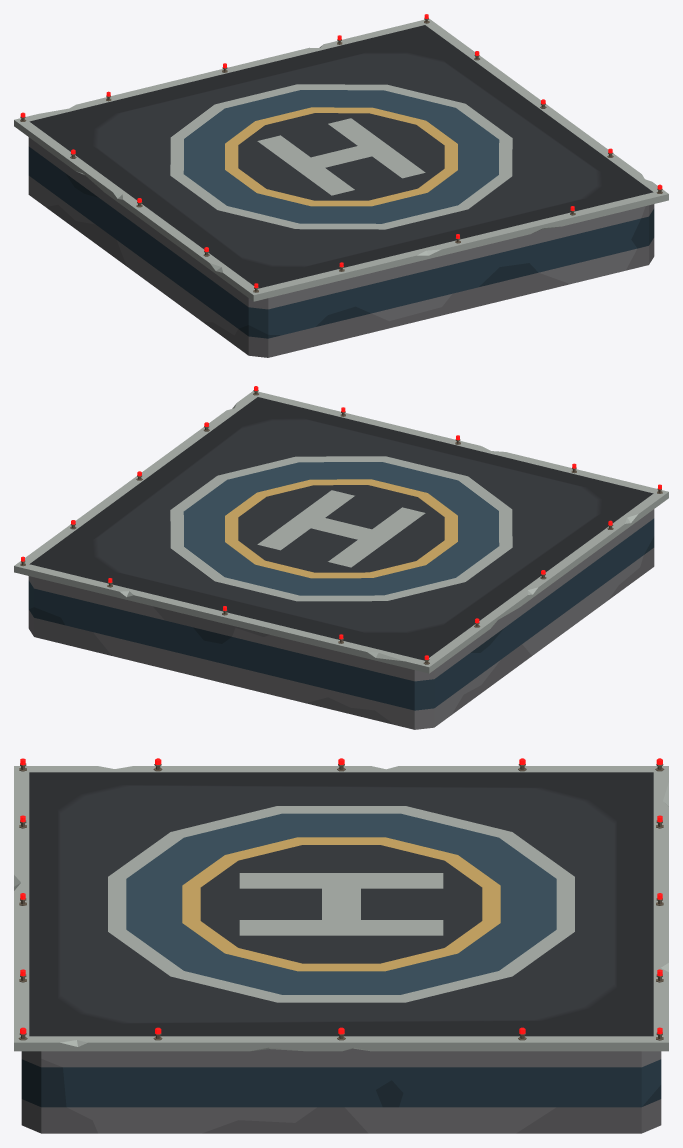
The model's file is SM_Bld_HeliPad_01.fbx.
3 renders of one model, top to bottom at view 1: azimuth 30°, elevation 25°; view 2: azimuth 150°, elevation 25°; view 3: azimuth 270°, elevation 25°, orthographic. The views are drawn at different scales.
Visible parts, largest first — view 1: SM_Bld_HeliPad_01; view 2: SM_Bld_HeliPad_01; view 3: SM_Bld_HeliPad_01.
Boxes of the visible parts, x1,y1,x2,y2 form: SM_Bld_HeliPad_01: (14,14,668,357); SM_Bld_HeliPad_01: (14,386,668,729); SM_Bld_HeliPad_01: (14,758,668,1133).
Size of the model in its own units: 906 by 160 by 906.
